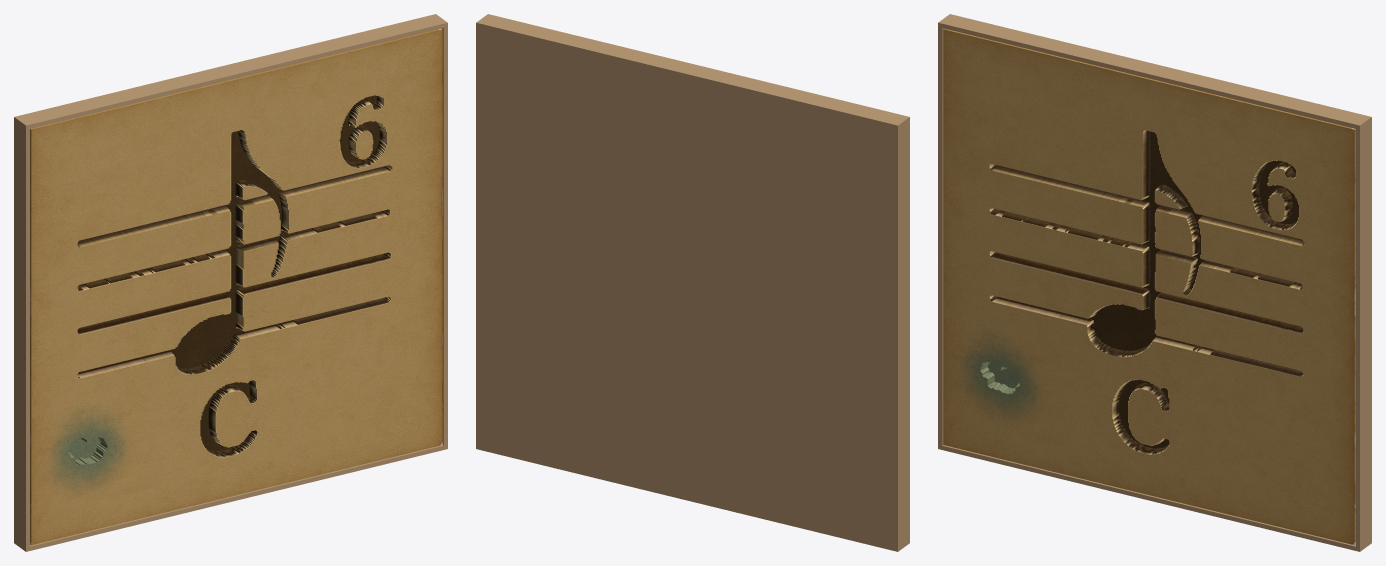
File: note6.fbx
3 views of the same model, side by side, from view 1: azimuth 30°, elevation 25°; view 2: azimuth 150°, elevation 25°; view 3: azimuth 330°, elevation 25° (orthographic).
Visible parts, largest first — view 1: nodes[0]; view 2: nodes[0]; view 3: nodes[0].
Part boxes in pixels (x1,y1,x2,y2): nodes[0]: (14, 14, 447, 551); nodes[0]: (476, 14, 909, 551); nodes[0]: (938, 14, 1371, 551).
Size of the model in its own units: 410 by 396 by 20.
